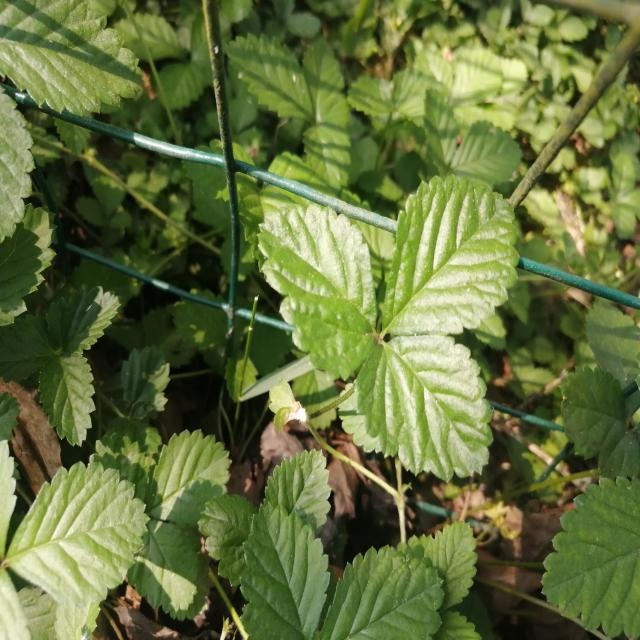Mock_strawberry: (259, 163, 501, 477)
